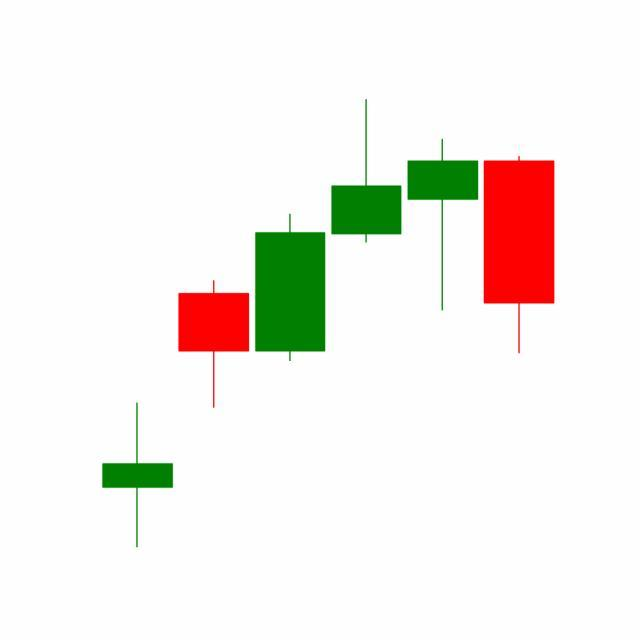Advance Block: (252, 99, 482, 366)
